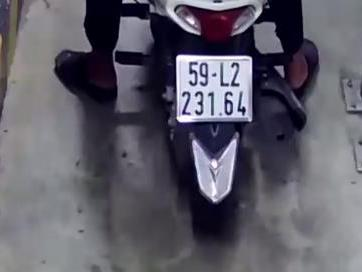num_plate: (177, 56, 252, 121)
